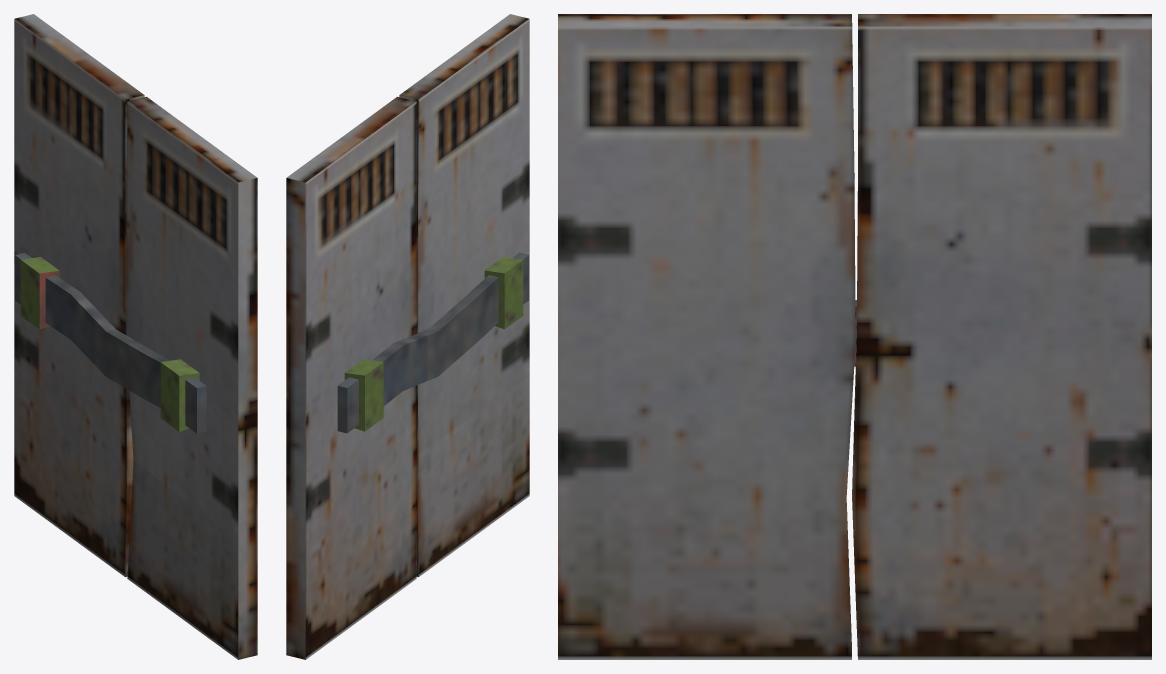
The model's file is SM_DOOR_01.fbx.
3 views of the same model, side by side, from view 1: azimuth 30°, elevation 25°; view 2: azimuth 150°, elevation 25°; view 3: azimuth 270°, elevation 25° (orthographic). The views are drawn at different scales.
Visible parts, largest first — view 1: SM_DOOR_01; view 2: SM_DOOR_01; view 3: SM_DOOR_01.
Part boxes in pixels (x1,y1,x2,y2): SM_DOOR_01: [14, 14, 257, 659]; SM_DOOR_01: [286, 14, 529, 659]; SM_DOOR_01: [558, 14, 1151, 659].
Size of the model in its own units: 0.2356 by 2.35 by 2.
